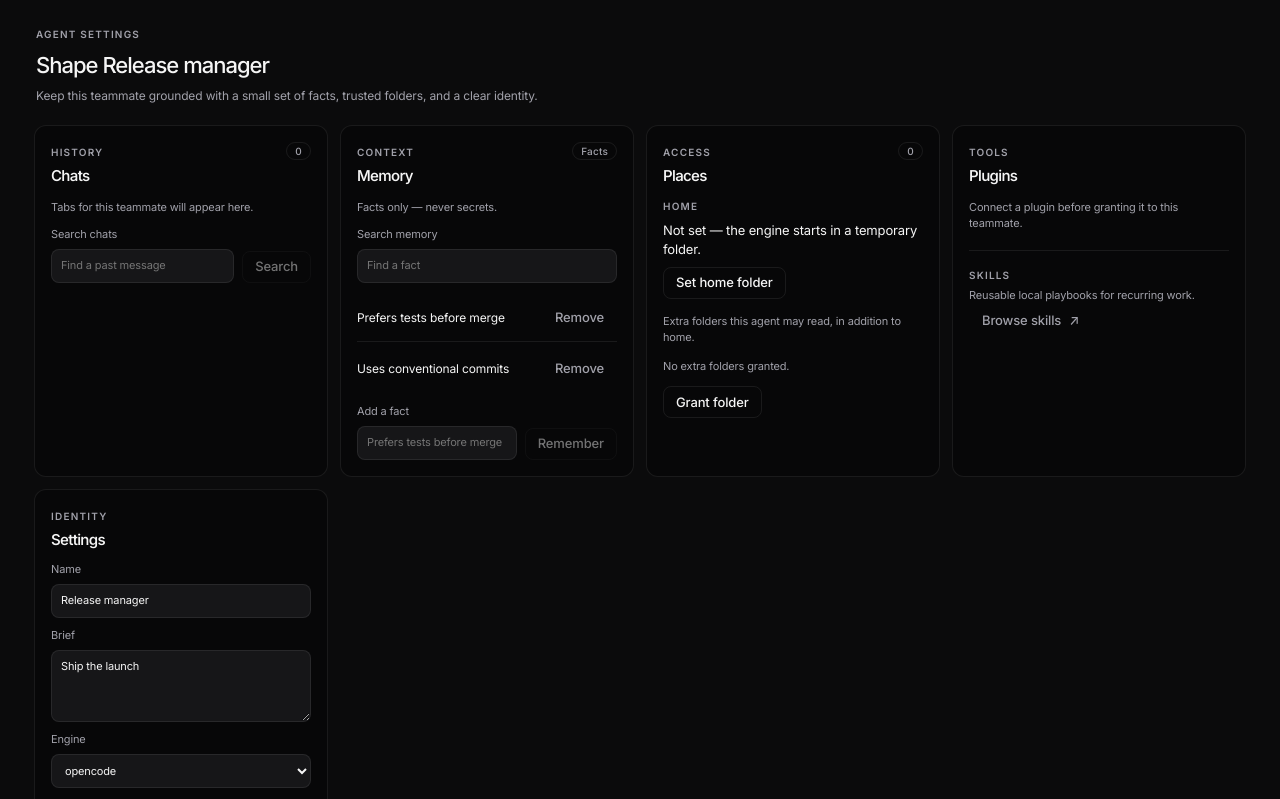
Test: filters remembered facts as you type and restores every row when the query is cleared
Expected: the text "Prefers tests before merge" is shown, x1=357 y1=309 x2=505 y2=327
Expected: the text "Uses conventional commits" is shown, x1=357 y1=360 x2=509 y2=378
Type "TESTS" into the field labelled "Search memory".
click(487, 266); type("TESTS")  # box x1=357 y1=249 x2=617 y2=283
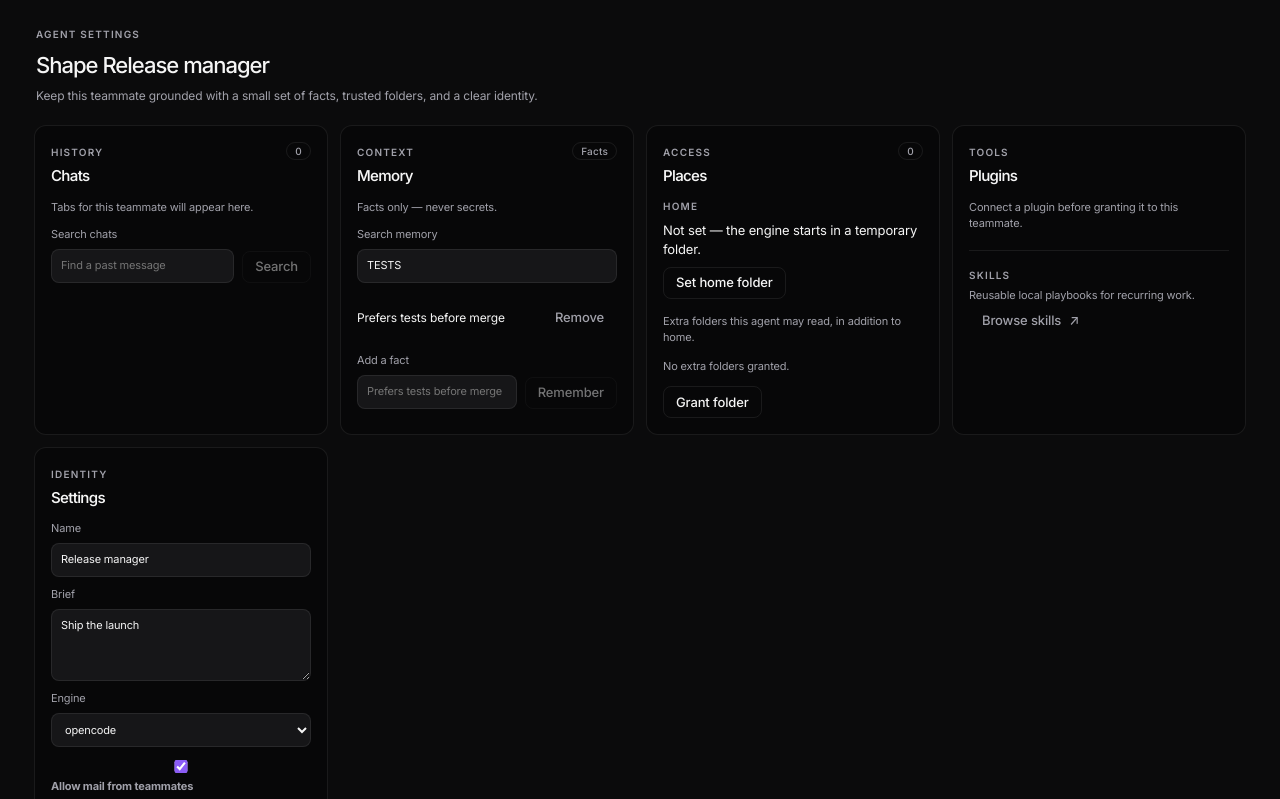
Expected: the text "Prefers tests before merge" is shown, x1=357 y1=309 x2=505 y2=327
Expected: the text "Uses conventional commits" is gone
Clear the field labelled "Search memory" at (487, 266), box x1=357 y1=249 x2=617 y2=283
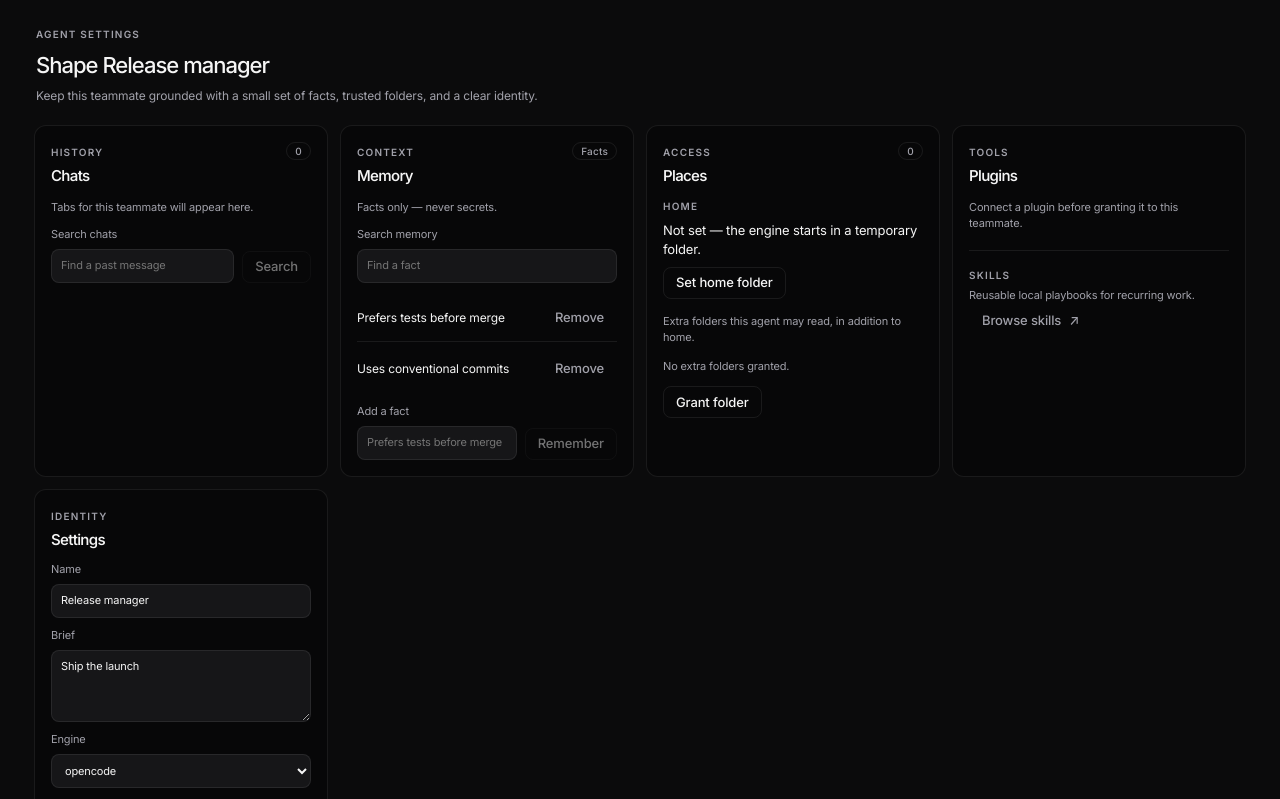
Expected: the text "Prefers tests before merge" is shown, x1=357 y1=309 x2=505 y2=327
Expected: the text "Uses conventional commits" is shown, x1=357 y1=360 x2=509 y2=378
